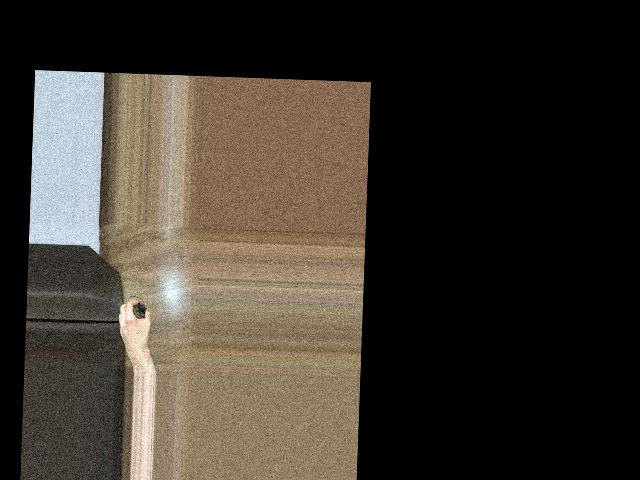beet: (129, 295, 146, 318)
